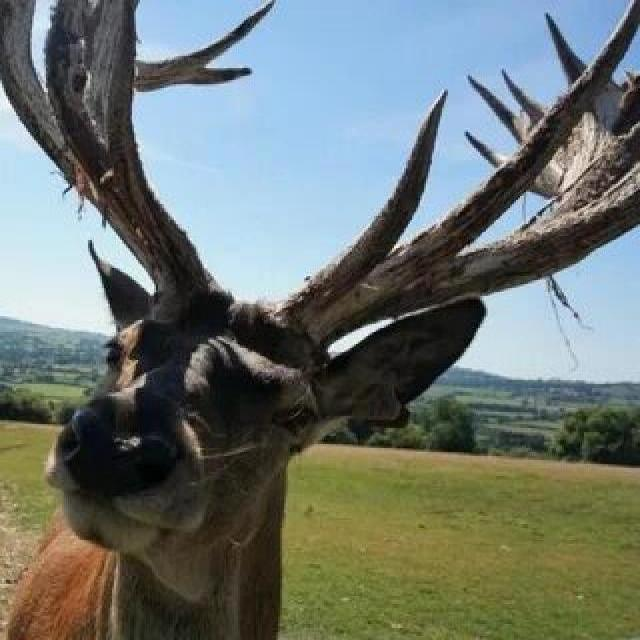deer: (17, 82, 640, 640)
